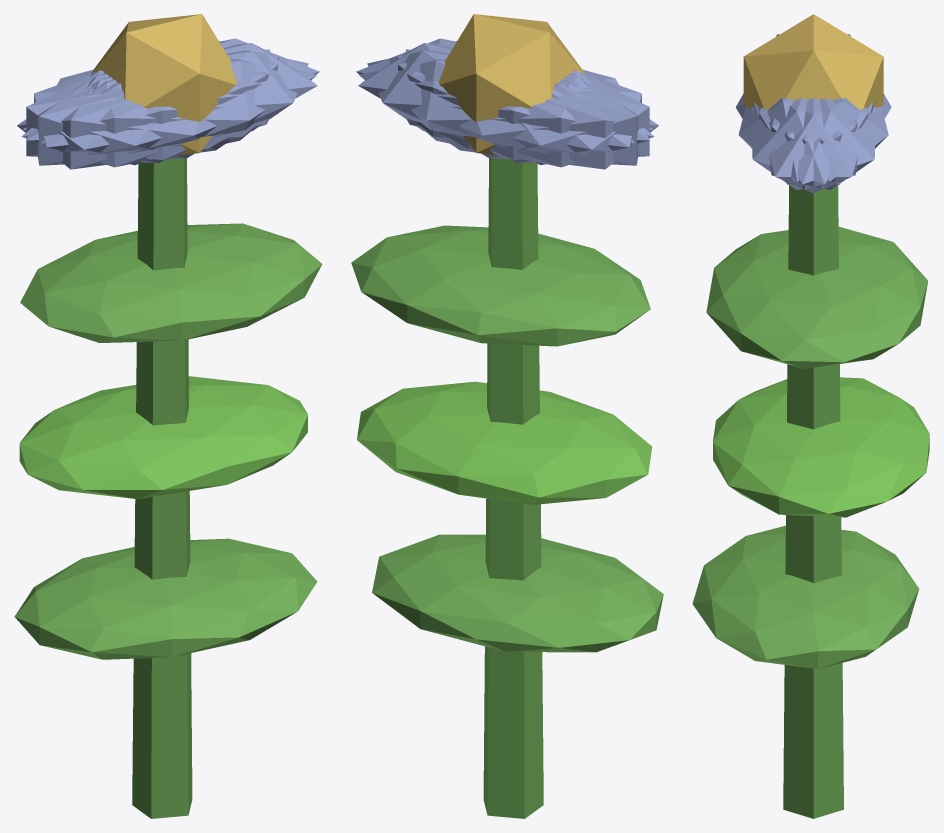
File: ficus-pseudopalma.glb
3 views of the same model, side by side, from view 1: azimuth 30°, elevation 25°; view 2: azimuth 150°, elevation 25°; view 3: azimuth 270°, elevation 25° (orthographic).
Visible parts, largest first — view 1: leaf0, leaf2, leaf1, stem, center, petal1, petal6, petal2, petal5, petal7, petal0, petal4 (+2 smaller); view 2: leaf1, leaf2, leaf0, stem, center, petal8, petal3, petal7, petal4, petal2, petal0, petal5 (+2 smaller); view 3: leaf2, leaf1, leaf0, stem, center, petal0, petal5, petal4, petal8, petal1.
Boxes of the visible parts, left/top/right/bottom form: leaf0: left=14, top=538, right=317, bottom=659; leaf2: left=20, top=223, right=322, bottom=342; leaf1: left=19, top=376, right=307, bottom=499; stem: left=132, top=158, right=192, bottom=818; center: left=91, top=14, right=236, bottom=155; petal1: left=21, top=59, right=316, bottom=167; petal6: left=17, top=72, right=230, bottom=169; petal2: left=37, top=49, right=270, bottom=165; petal5: left=41, top=50, right=308, bottom=159; petal7: left=26, top=55, right=278, bottom=163; petal0: left=91, top=43, right=317, bottom=149; petal4: left=23, top=38, right=319, bottom=140; leaf1: left=357, top=381, right=652, bottom=504; leaf2: left=351, top=225, right=650, bottom=346; leaf0: left=372, top=534, right=663, bottom=652; stem: left=483, top=158, right=543, bottom=818; center: left=439, top=14, right=584, bottom=155; petal8: left=359, top=59, right=654, bottom=167; petal3: left=445, top=72, right=658, bottom=169; petal7: left=405, top=49, right=638, bottom=165; petal4: left=367, top=50, right=634, bottom=159; petal2: left=397, top=55, right=649, bottom=163; petal0: left=358, top=43, right=584, bottom=149; petal5: left=356, top=38, right=652, bottom=140; leaf2: left=706, top=227, right=927, bottom=368; leaf1: left=713, top=377, right=929, bottom=517; leaf0: left=692, top=525, right=918, bottom=668; stem: left=783, top=185, right=843, bottom=818; center: left=743, top=14, right=883, bottom=109; petal0: left=753, top=98, right=873, bottom=193; petal5: left=752, top=98, right=868, bottom=189; petal4: left=759, top=98, right=875, bottom=189; petal8: left=769, top=98, right=888, bottom=181; petal1: left=738, top=98, right=857, bottom=181.
Size of the model in its own units: 0.1452 by 0.3737 by 0.1038.
